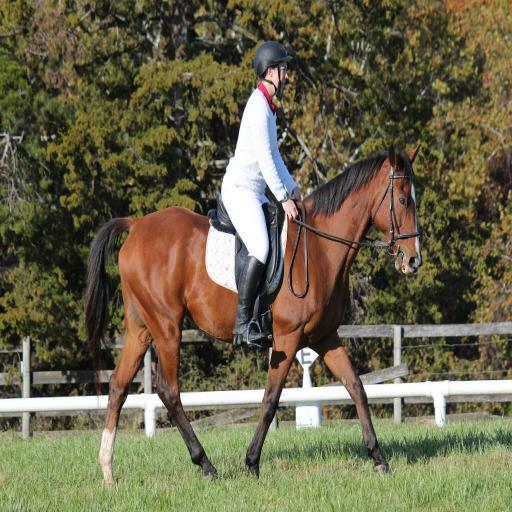horse: (82, 141, 422, 482)
